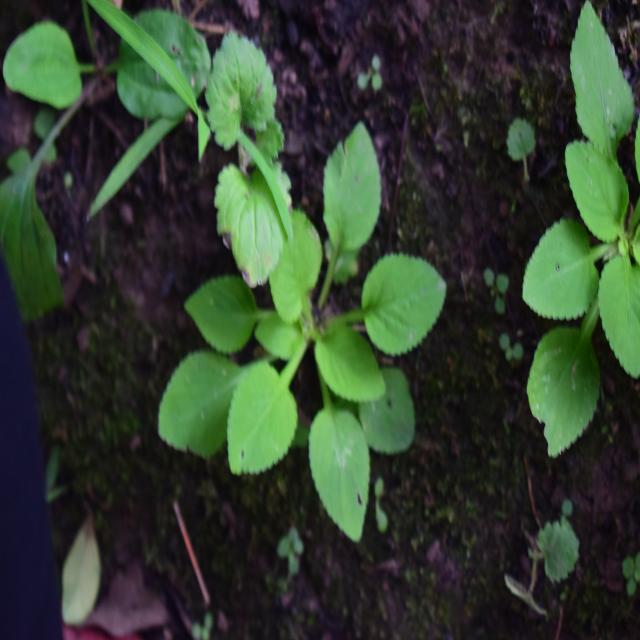Viola: (168, 142, 438, 539), (526, 38, 640, 446)
